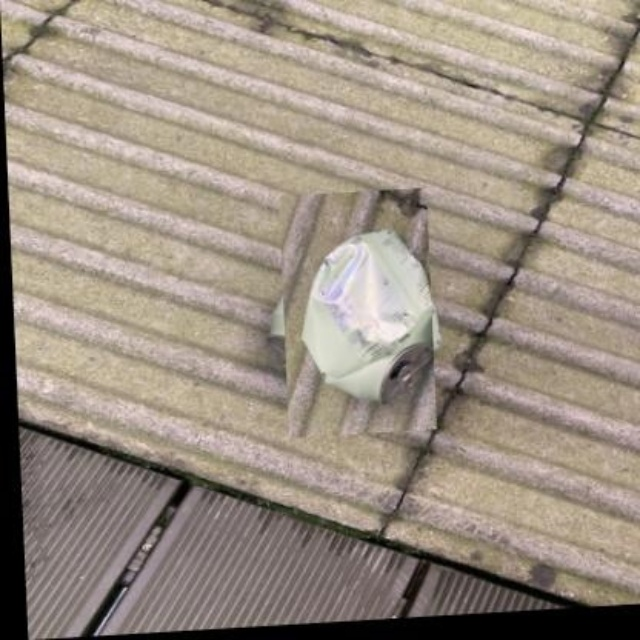trash: (302, 231, 437, 400)
